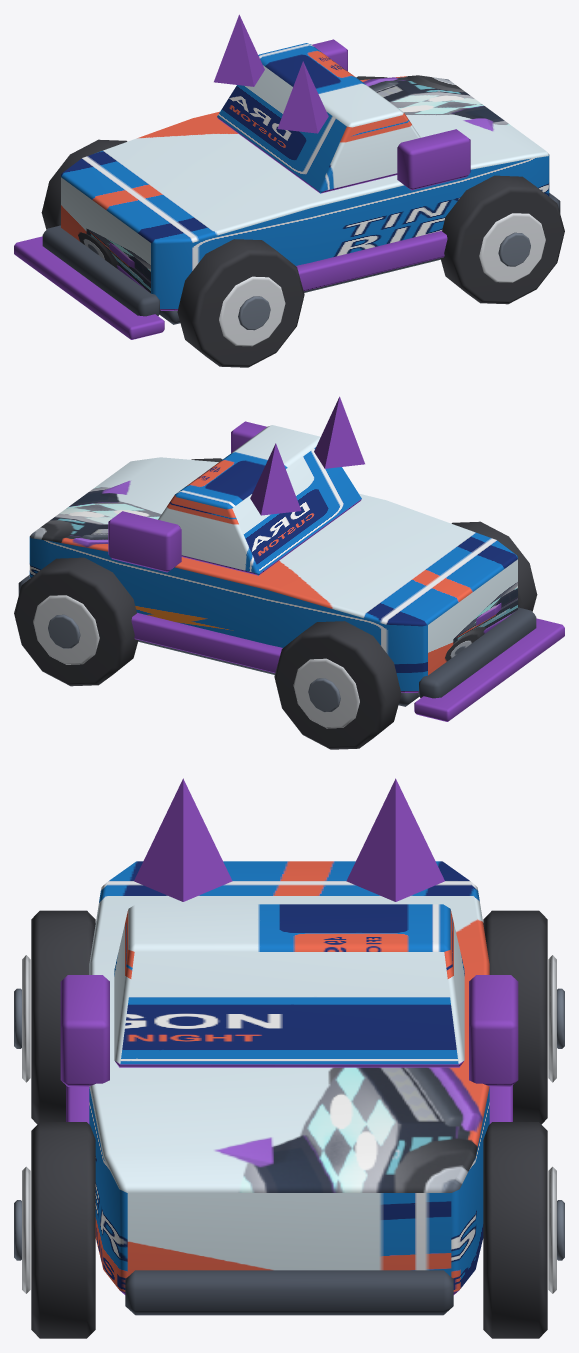
The picture shows the model from 3 angles, top to bottom: view 1: azimuth 30°, elevation 25°; view 2: azimuth 150°, elevation 25°; view 3: azimuth 270°, elevation 25°; orthographic projection. The views are drawn at different scales.
Parts seen in each view (by area): view 1: CR-05_connected_shell, CR-05_cabin, Tire, Tire.002, custom chin, custom side guard, custom side fin, front bumper, Rim.002, Rim, horn, horn.001 (+5 smaller); view 2: CR-05_connected_shell, CR-05_cabin, Tire.001, Tire.003, custom chin, custom side guard.001, custom side fin.001, front bumper, Rim.003, Rim.001, horn.001, horn (+5 smaller); view 3: CR-05_connected_shell, CR-05_cabin, rear bumper, Tire.002, Tire.003, Tire, Tire.001, horn, horn.001, custom side fin, custom side fin.001, Rim.002 (+5 smaller).
Part boxes in pixels (x1,y1,x2,y2): CR-05_connected_shell: (61,75,549,310); CR-05_cabin: (217,43,420,193); Tire: (177,239,304,367); Tire.002: (440,175,564,304); custom chin: (14,236,164,339); custom side guard: (296,230,447,291); custom side fin: (397,129,470,190); front bumper: (42,225,160,316); Rim.002: (479,213,545,282); Rim: (219,276,285,346); horn: (277,61,328,133); horn.001: (214,14,264,86); CR-05_connected_shell: (29,457,517,692); CR-05_cabin: (158,425,361,575); Tire.001: (274,621,401,749); Tire.003: (14,557,138,686); custom chin: (414,618,564,721); custom side guard.001: (131,612,282,673); custom side fin.001: (108,511,181,572); front bumper: (418,607,536,698); Rim.003: (33,595,99,664); Rim.001: (293,658,359,728); horn.001: (250,443,301,515); horn: (314,396,364,468); CR-05_connected_shell: (89,861,489,1294); CR-05_cabin: (114,904,464,1067); rear bumper: (125,1270,453,1315); Tire.002: (31,1122,95,1338); Tire.003: (483,1122,547,1338); Tire: (31,910,95,1124); Tire.001: (483,910,547,1124); horn: (134,778,232,901); horn.001: (346,778,444,901); custom side fin: (60,975,109,1086); custom side fin.001: (469,975,518,1086); Rim.002: (22,1166,30,1293).
Size of the model in its own units: 344 by 187 by 223.
